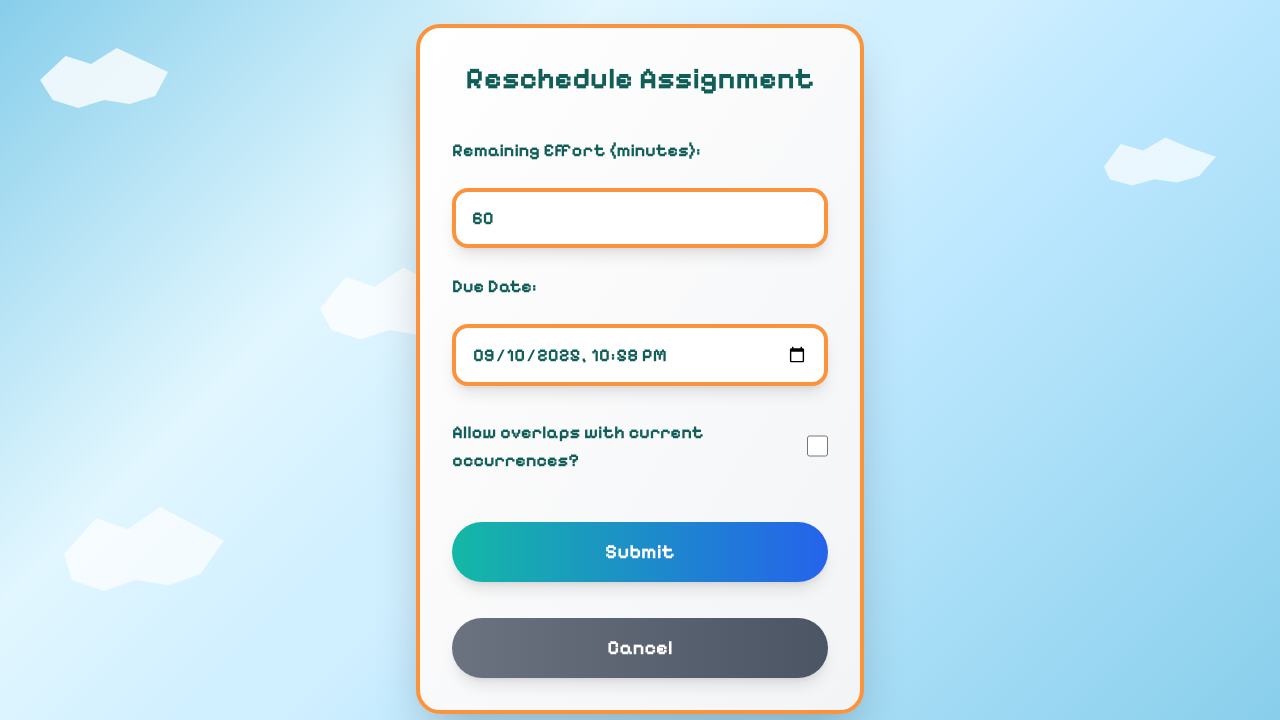
Test: RescheduleScreen Component › handles API error during submission
The width and height of the screenshot is (1280, 720).
What coordinates should you click on to do the following:
click the button "Submit"
I would click on:
 (640, 552)
Its box is [452,522,828,582].
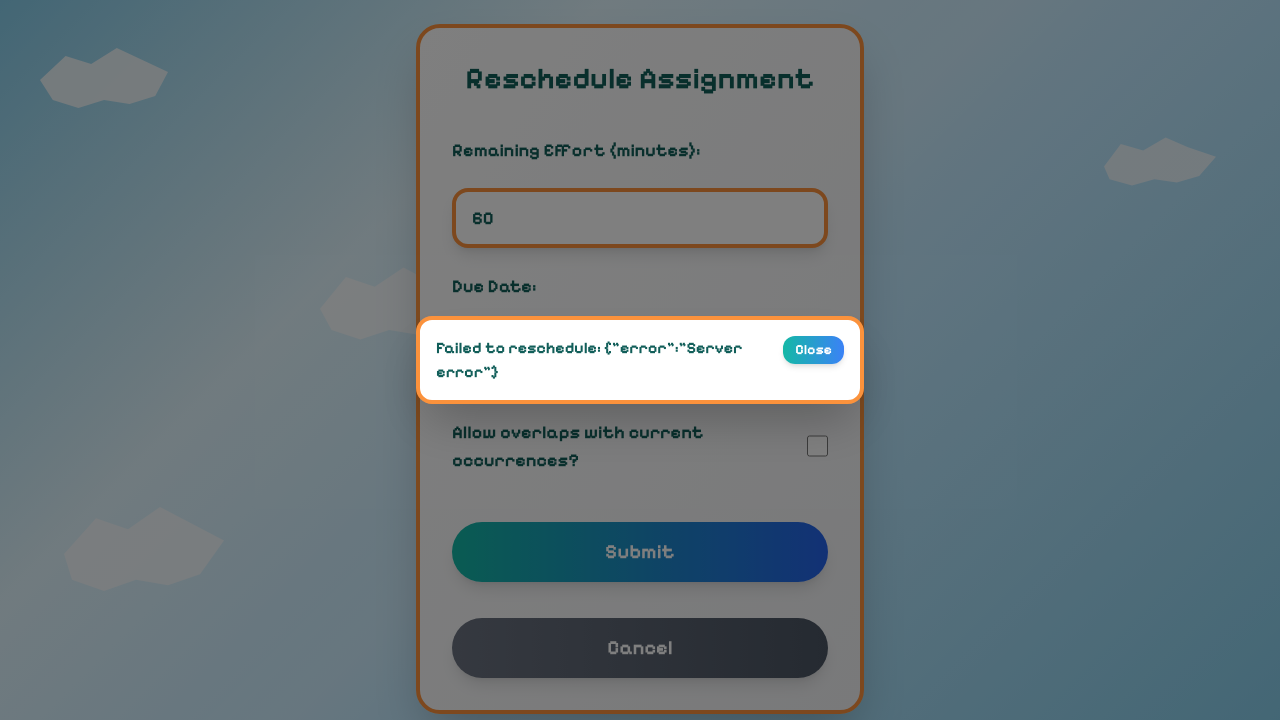
Expected: the text with test id "app-popup-message" shows "Failed to reschedule:", [436,338,743,381]
